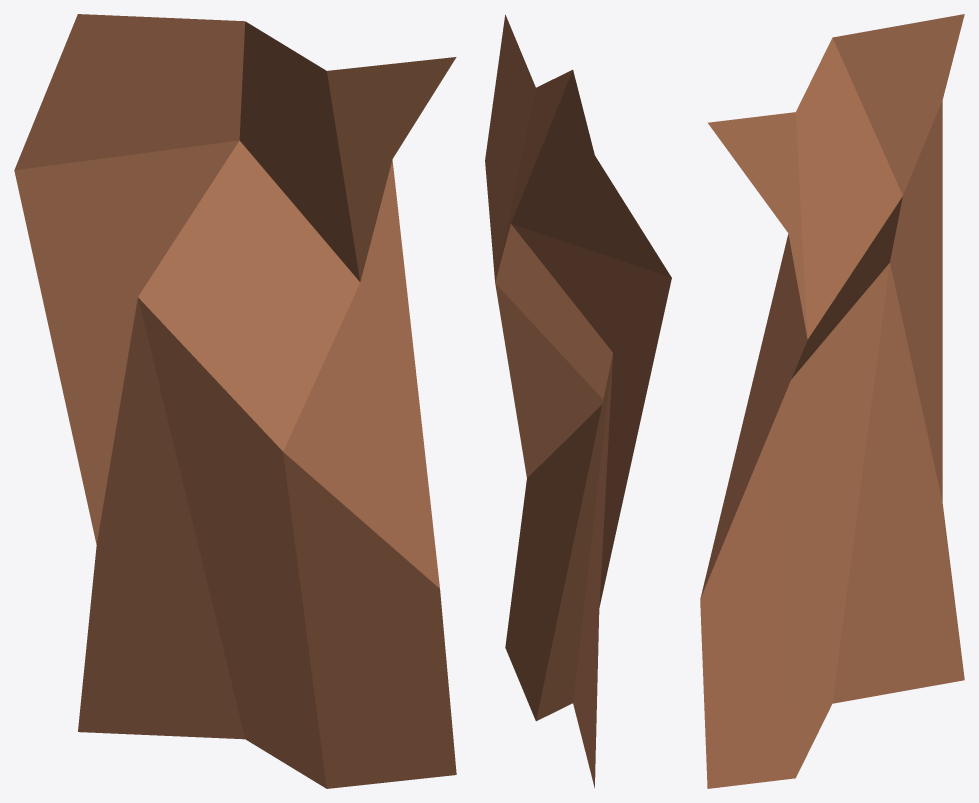
Rendered from Corner Center Inverted.fbx.
3 renders of one model, left to right at view 1: azimuth 30°, elevation 25°; view 2: azimuth 150°, elevation 25°; view 3: azimuth 270°, elevation 25°, orthographic. The views are drawn at different scales.
Visible parts, largest first — view 1: Corner Center Inverted; view 2: Corner Center Inverted; view 3: Corner Center Inverted.
Boxes of the visible parts, x1,y1,x2,y2 form: Corner Center Inverted: [14, 14, 456, 788]; Corner Center Inverted: [485, 14, 671, 788]; Corner Center Inverted: [700, 14, 964, 788].
Size of the model in its own units: 23 by 53.5 by 18.
